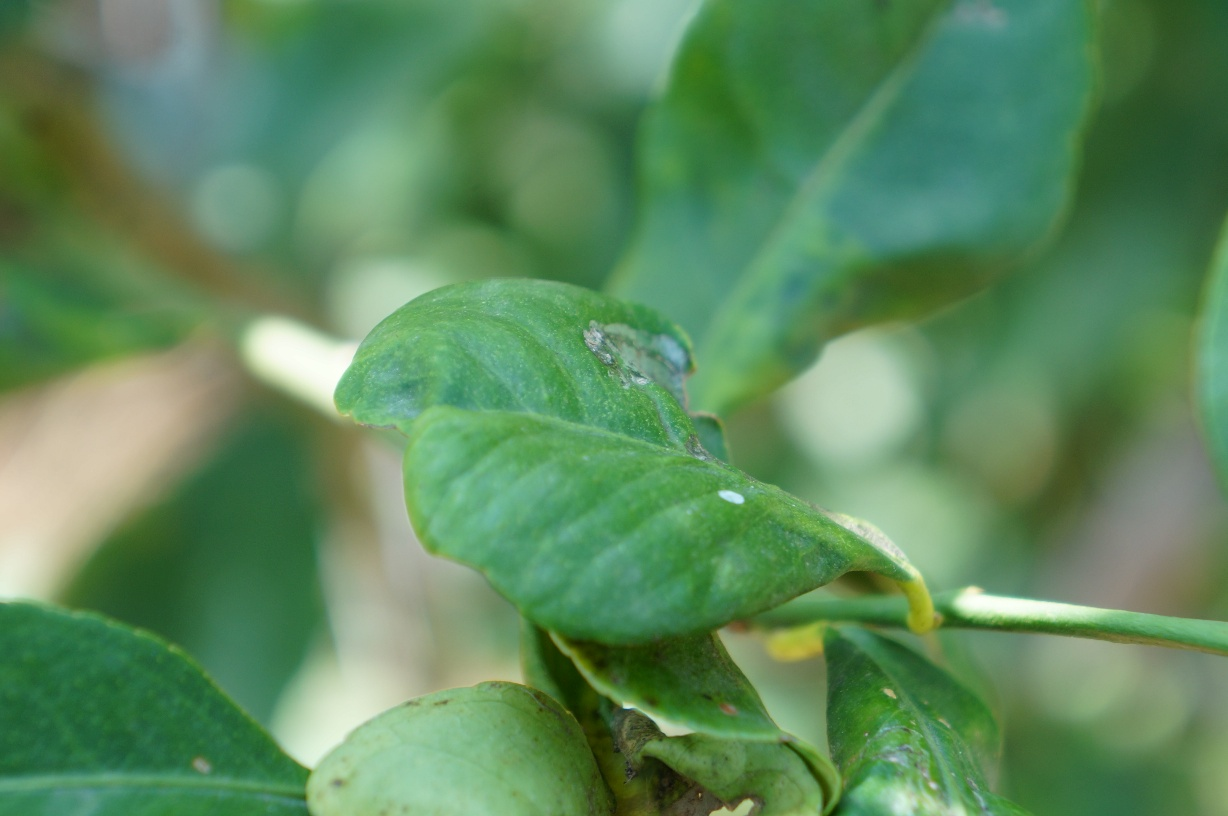damage: (562, 284, 771, 467), (873, 698, 957, 794)
